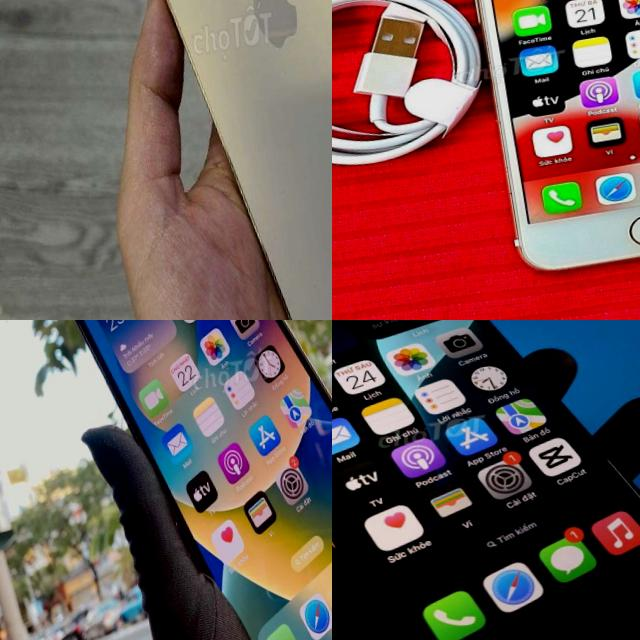gen_11: (332, 320, 640, 640)
gen_12_13: (51, 320, 332, 640), (75, 0, 332, 320)
gen_7_8: (452, 0, 640, 283)
